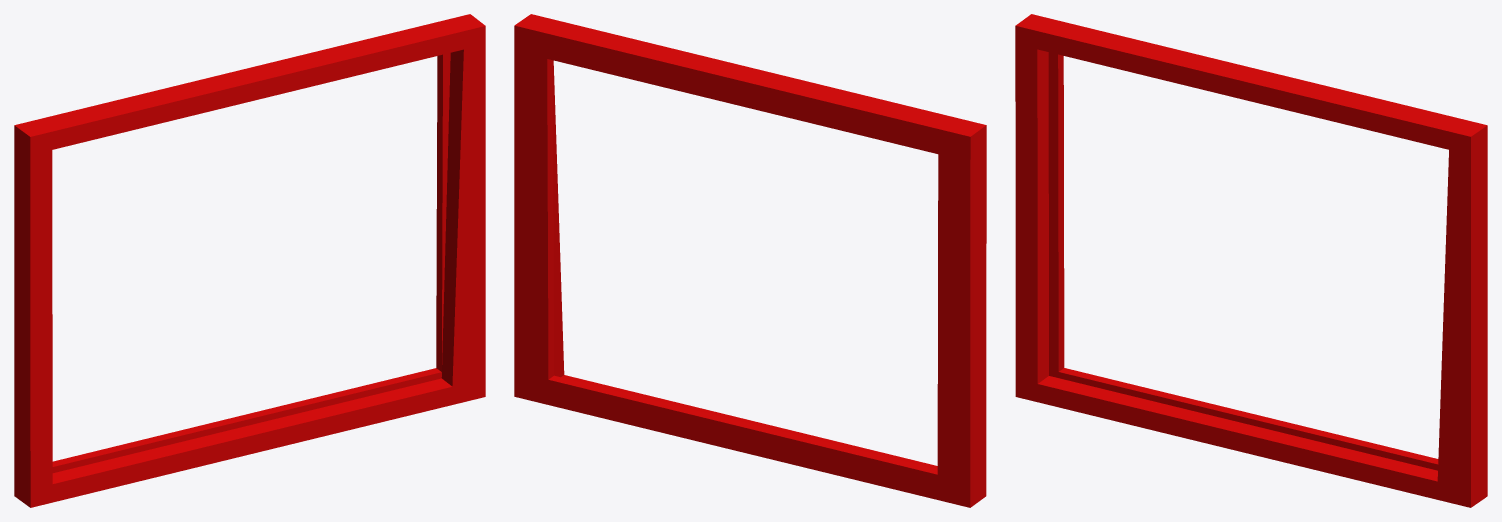
File: Restaurant_02_Wall_Orn_03.fbx
3 renders of one model, left to right at view 1: azimuth 30°, elevation 25°; view 2: azimuth 150°, elevation 25°; view 3: azimuth 330°, elevation 25°, orthographic.
Visible parts, largest first — view 1: Restaurant_02_Wall_Orn_03; view 2: Restaurant_02_Wall_Orn_03; view 3: Restaurant_02_Wall_Orn_03.
Boxes of the visible parts, bbox=[...] form: Restaurant_02_Wall_Orn_03: bbox=[14, 14, 485, 507]; Restaurant_02_Wall_Orn_03: bbox=[514, 14, 986, 507]; Restaurant_02_Wall_Orn_03: bbox=[1015, 14, 1487, 507].
Bounding box in the file's own units: 179 × 139 × 10.93.
